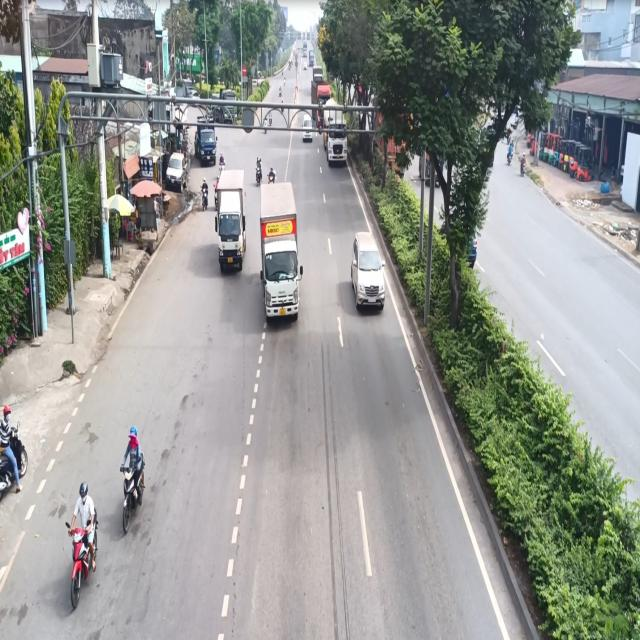car: (351, 230, 386, 320)
motor: (64, 484, 100, 612), (118, 424, 149, 542)
truck: (252, 176, 306, 334), (215, 169, 249, 275)
